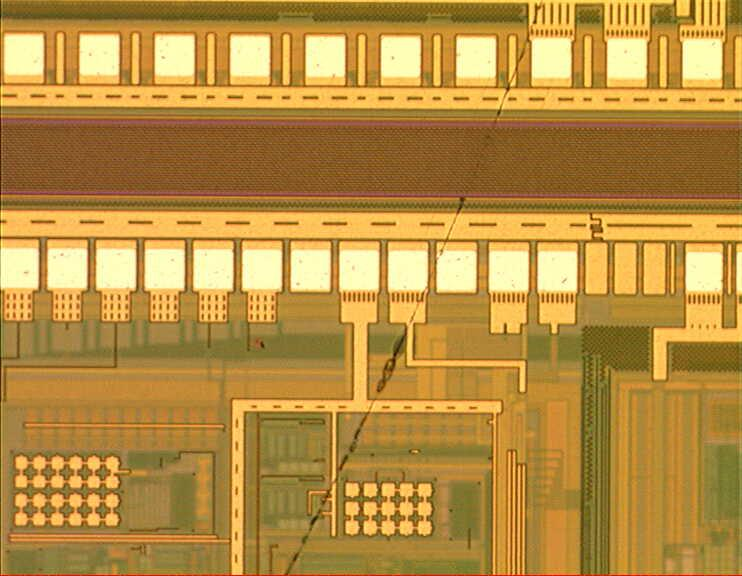SCRATCH: (278, 1, 553, 575)
